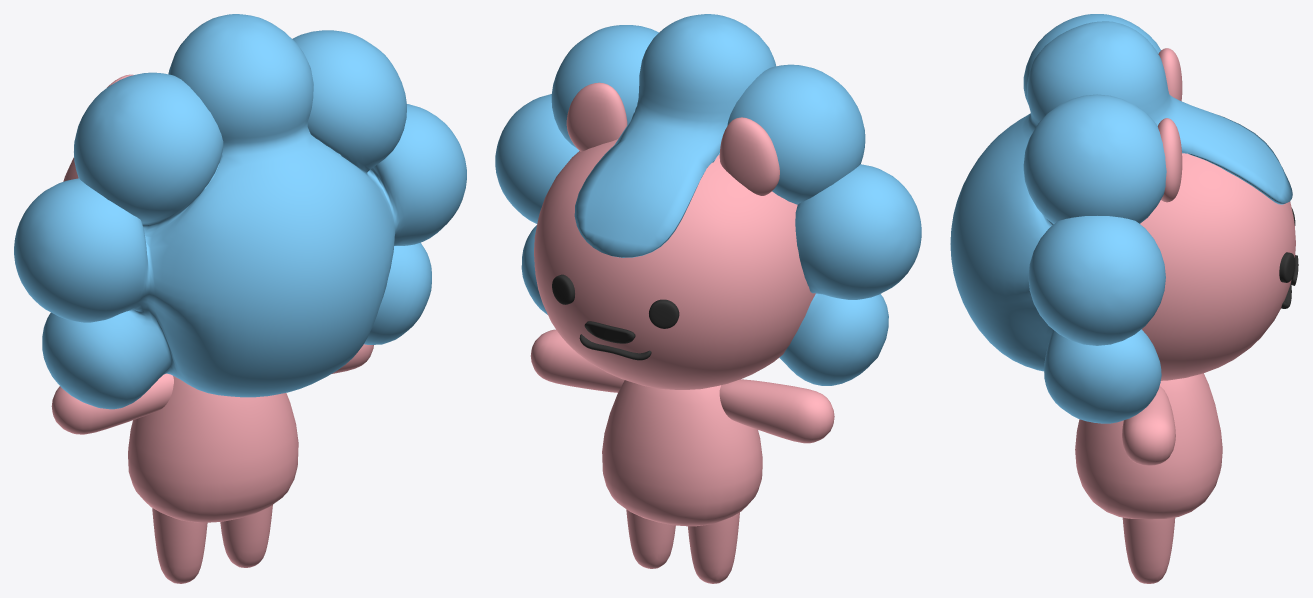
File: BISA.fbx
The picture shows the model from 3 angles, left to right: view 1: azimuth 30°, elevation 25°; view 2: azimuth 150°, elevation 25°; view 3: azimuth 270°, elevation 25°; orthographic projection. The views are drawn at different scales.
Parts seen in each view (by area): view 1: Bisa_Hair, Bisa_Body, Bisa_Legs, Bisa_arms; view 2: Bisa_Hair, Bisa_Head, Bisa_Body, Bisa_arms, Bisa_Ears, Bisa_Legs, Bisa_Eyes, Bisa_Nose, Bisa_Mouth; view 3: Bisa_Hair, Bisa_Head, Bisa_Body, Bisa_arms, Bisa_Legs, Bisa_Ears.
Boxes of the visible parts, x1=… form: Bisa_Hair: x1=14, y1=14, x2=466, y2=409; Bisa_Body: x1=128, y1=376, x2=298, y2=522; Bisa_Legs: x1=152, y1=505, x2=272, y2=583; Bisa_arms: x1=51, y1=344, x2=373, y2=434; Bisa_Hair: x1=495, y1=14, x2=921, y2=385; Bisa_Head: x1=534, y1=139, x2=815, y2=389; Bisa_Body: x1=602, y1=380, x2=762, y2=526; Bisa_arms: x1=530, y1=329, x2=834, y2=443; Bisa_Ears: x1=566, y1=82, x2=779, y2=195; Bisa_Legs: x1=626, y1=509, x2=739, y2=583; Bisa_Eyes: x1=552, y1=274, x2=679, y2=328; Bisa_Nose: x1=584, y1=321, x2=635, y2=343; Bisa_Mouth: x1=579, y1=334, x2=651, y2=360; Bisa_Hair: x1=950, y1=14, x2=1292, y2=423; Bisa_Head: x1=1140, y1=153, x2=1295, y2=380; Bisa_Body: x1=1075, y1=373, x2=1222, y2=519; Bisa_arms: x1=1122, y1=386, x2=1175, y2=465; Bisa_Legs: x1=1122, y1=517, x2=1175, y2=583; Bisa_Ears: x1=1158, y1=48, x2=1182, y2=202.
Size of the model in its own units: 118 by 148 by 86.76.
